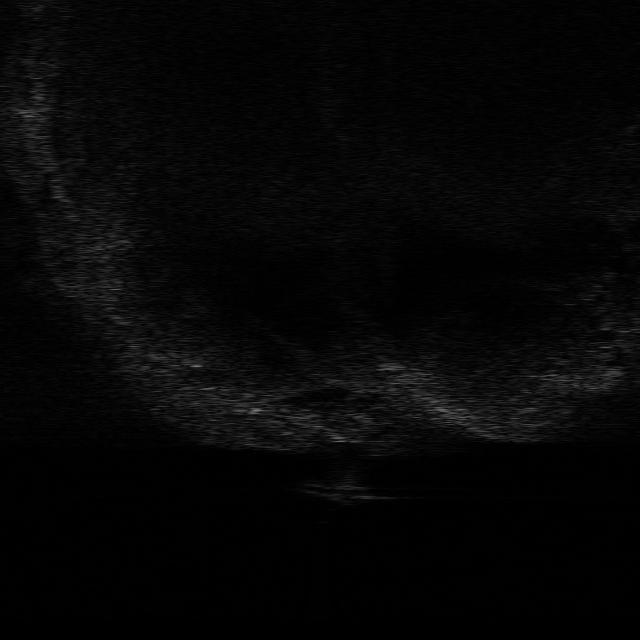plane: (592, 340, 640, 357)
